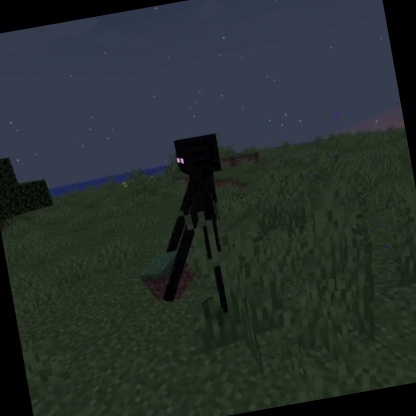enderman: (133, 129, 251, 327)
